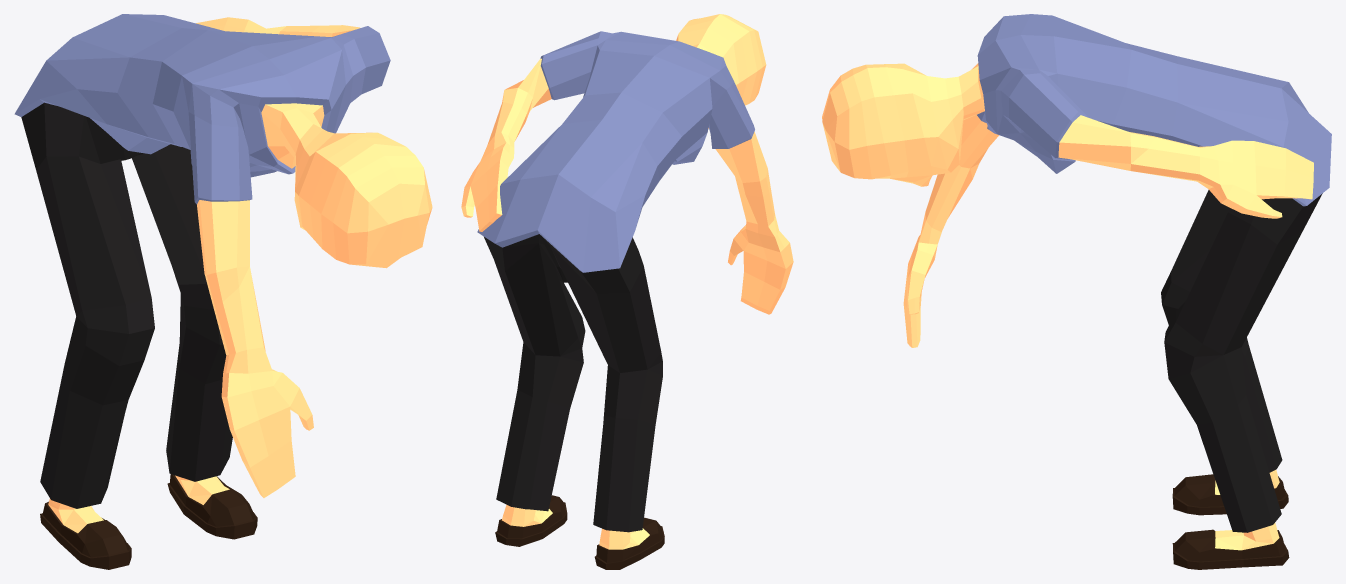
File: female_picking_up.glb
3 views of the same model, side by side, from view 1: azimuth 30°, elevation 25°; view 2: azimuth 150°, elevation 25°; view 3: azimuth 270°, elevation 25° (orthographic). The views are drawn at different scales.
Visible parts, largest first — view 1: Female_PickingUp; view 2: Female_PickingUp; view 3: Female_PickingUp.
Part boxes in pixels (x1,y1,x2,y2): Female_PickingUp: (14,14,432,569); Female_PickingUp: (461,14,793,569); Female_PickingUp: (822,14,1331,569).
Bounding box in the file's own units: 0.8831 × 1.85 × 1.71.
